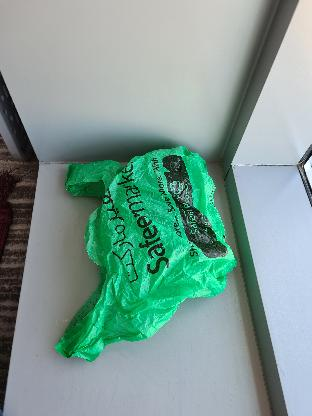Plastic Bag: (57, 140, 237, 366)
